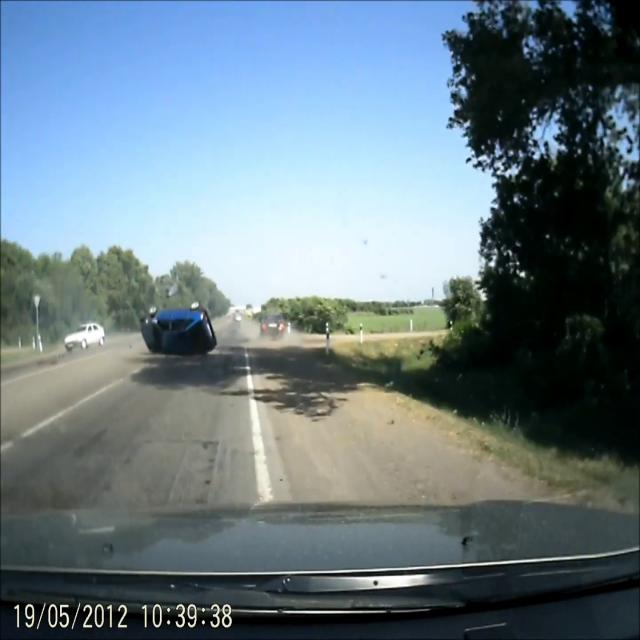accident: (134, 296, 228, 362)
